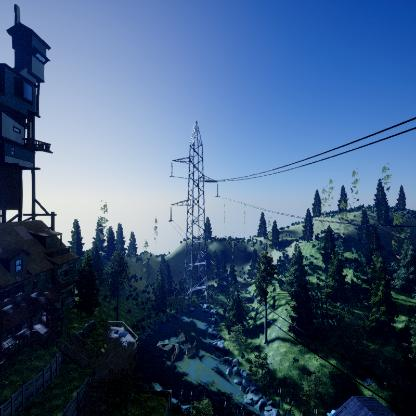tower: (164, 118, 224, 317)
